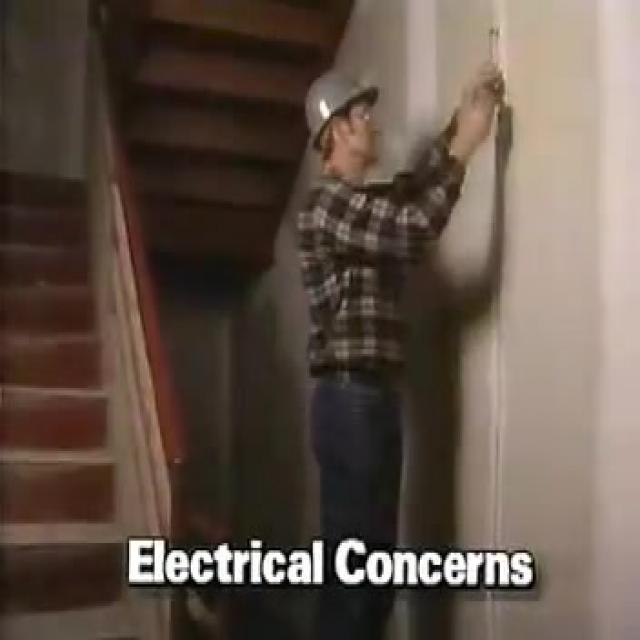Safety-Helmet: (287, 53, 395, 153)
